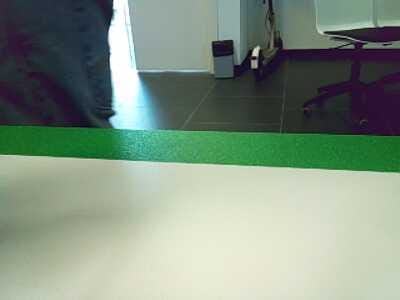linea_cerca: (0, 124, 400, 174)
